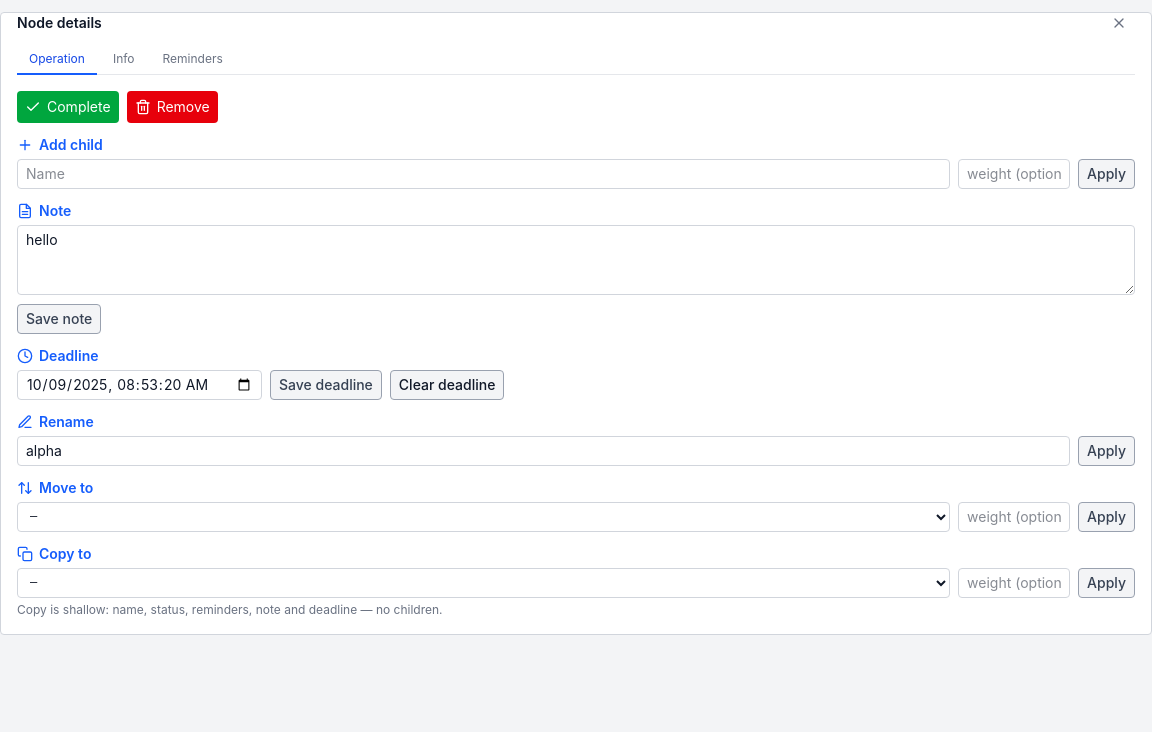
NodeDetailPanel note and deadline editing › shows createdAt and deadline in the metadata
Click the tab with test id "detail-tab-info": x=124, y=60 [101,45,146,75]
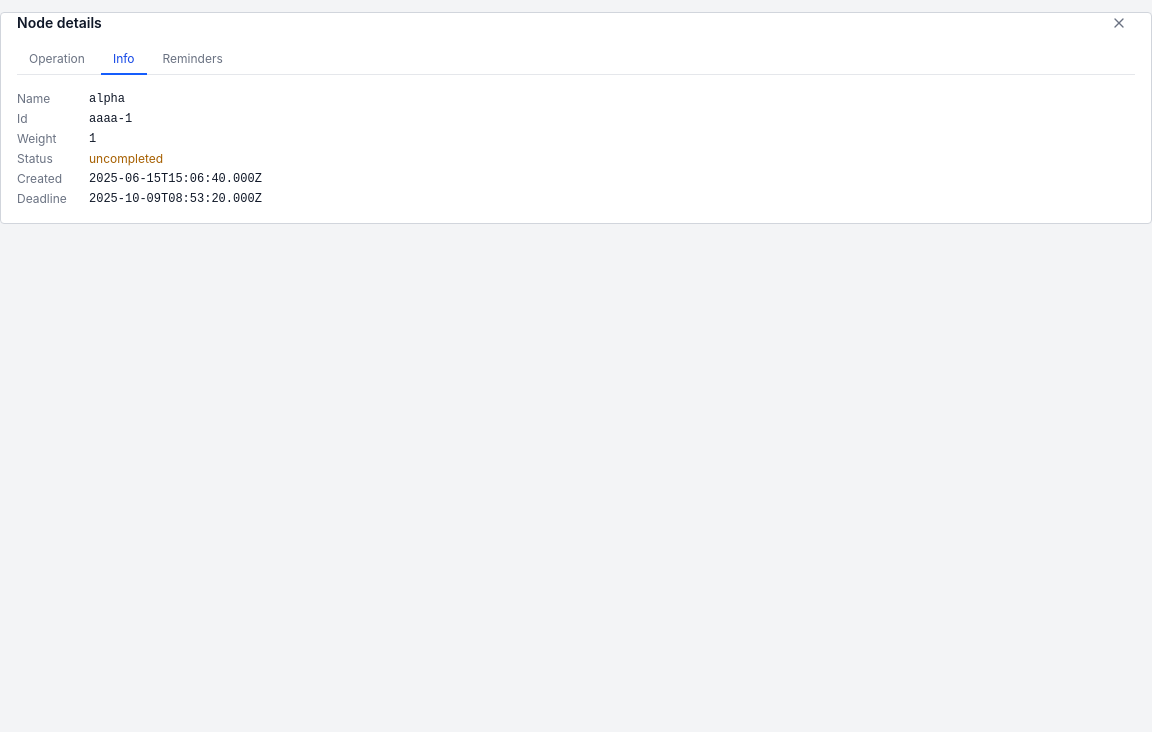
Now the text with test id "detail-created" shows "2025-06-", box [89,172,262,186]
Now the text with test id "detail-deadline-value" shows "2025-10-", box [89,192,262,206]
